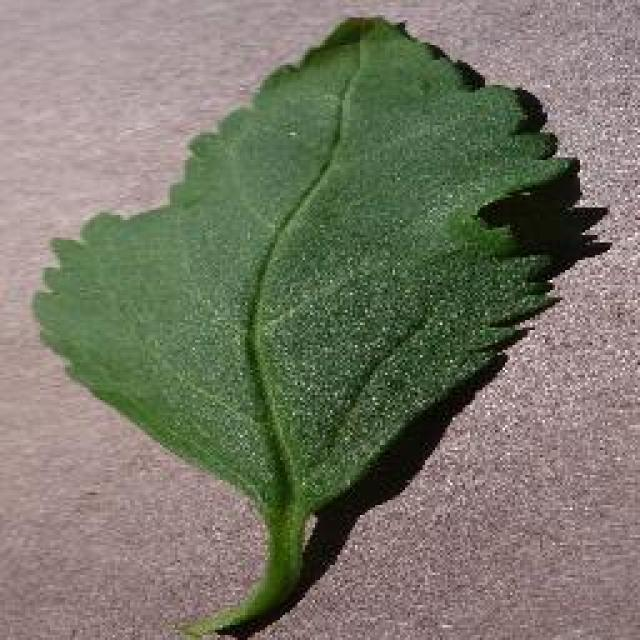Cherry___healthy: (18, 5, 598, 640)
